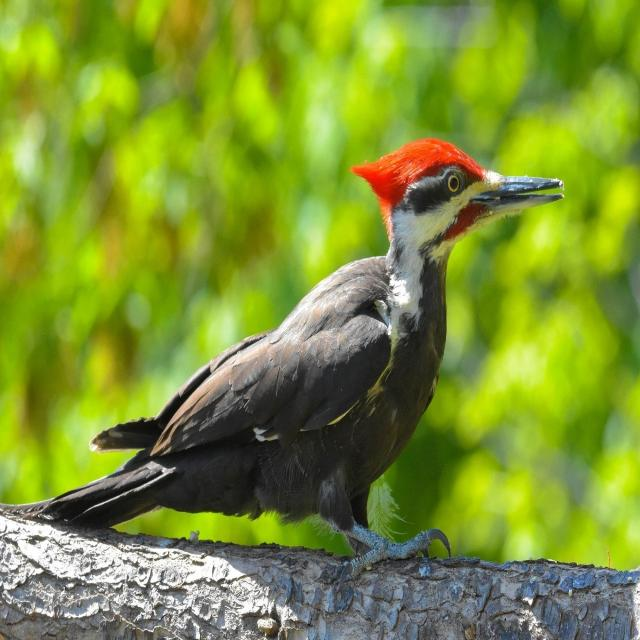Woodpecker: (47, 132, 569, 568)
